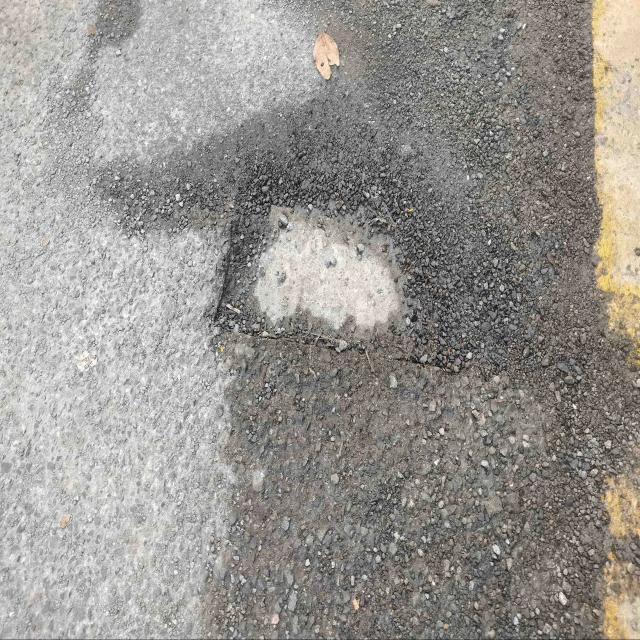Pothole: (204, 179, 456, 377)
